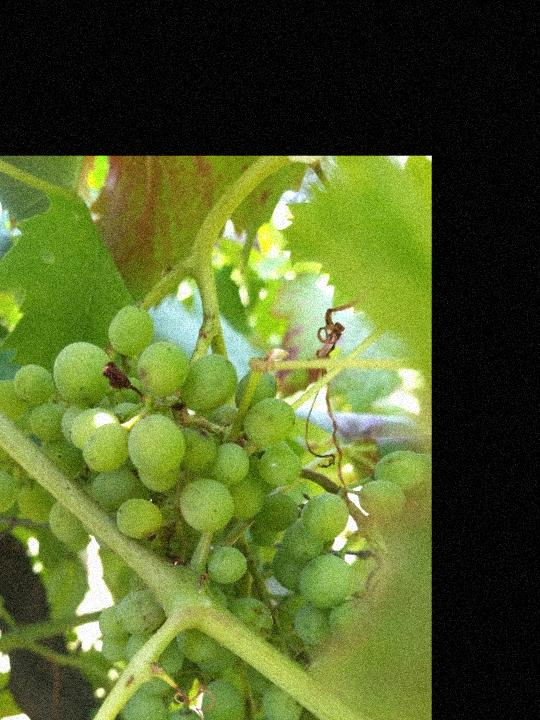grape: (0, 300, 423, 720)
